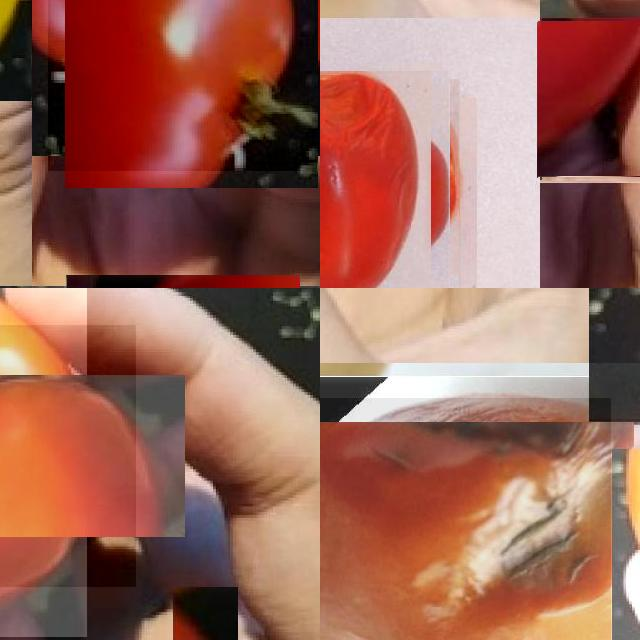0: (0, 325, 136, 586)
Fresh Tomato: (48, 0, 320, 171), (538, 19, 640, 179)
Rotten Tomato: (320, 398, 611, 640), (320, 74, 454, 288)
